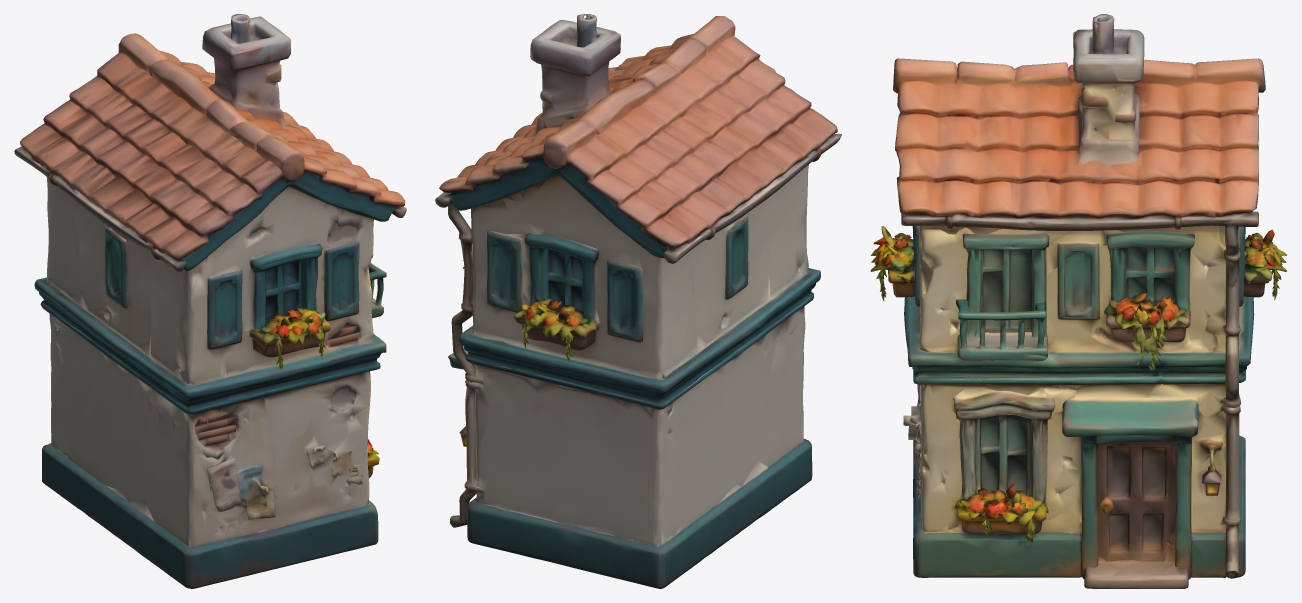
File: house_tall.glb
3 renders of one model, left to right at view 1: azimuth 30°, elevation 25°; view 2: azimuth 150°, elevation 25°; view 3: azimuth 270°, elevation 25°, orthographic. The views are drawn at different scales.
Parts seen in each view (by area): view 1: tripo_part_0, tripo_part_1, tripo_part_3, tripo_part_6, tripo_part_14, tripo_part_9, tripo_part_2; view 2: tripo_part_0, tripo_part_1, tripo_part_3, tripo_part_8, tripo_part_15, tripo_part_14, tripo_part_10; view 3: tripo_part_1, tripo_part_0, tripo_part_2, tripo_part_3, tripo_part_7, tripo_part_13, tripo_part_4, tripo_part_6, tripo_part_12, tripo_part_8, tripo_part_9, tripo_part_10 (+1 smaller).
Part boxes in pixels (x1,y1,x2,y2): tripo_part_0: [34, 177, 386, 547]; tripo_part_1: [14, 14, 406, 271]; tripo_part_3: [42, 443, 378, 588]; tripo_part_6: [207, 241, 359, 357]; tripo_part_14: [105, 227, 127, 308]; tripo_part_9: [262, 313, 325, 371]; tripo_part_2: [368, 263, 386, 318]; tripo_part_0: [448, 164, 820, 546]; tripo_part_1: [435, 14, 841, 263]; tripo_part_3: [467, 438, 812, 588]; tripo_part_8: [486, 230, 599, 350]; tripo_part_15: [607, 259, 643, 342]; tripo_part_14: [725, 216, 748, 299]; tripo_part_10: [513, 305, 596, 349]; tripo_part_1: [893, 14, 1265, 243]; tripo_part_0: [903, 224, 1254, 579]; tripo_part_2: [956, 228, 1194, 361]; tripo_part_3: [913, 435, 1245, 588]; tripo_part_7: [950, 388, 1055, 545]; tripo_part_13: [1098, 442, 1175, 561]; tripo_part_4: [1131, 298, 1178, 369]; tripo_part_6: [887, 226, 919, 306]; tripo_part_12: [968, 493, 1037, 537]; tripo_part_8: [1239, 226, 1268, 306]; tripo_part_9: [870, 226, 913, 300]; tripo_part_10: [1256, 229, 1286, 300].
Size of the model in its own units: 0.5437 by 0.9805 by 0.6979.
1 material, 1 textured.
